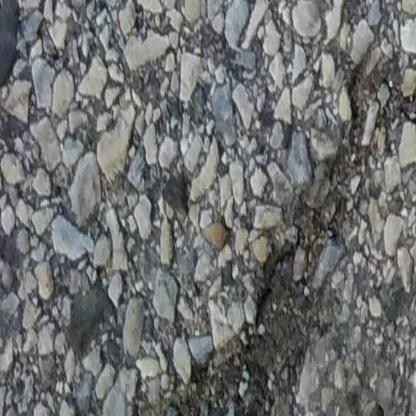Cracks: (155, 50, 416, 416)
